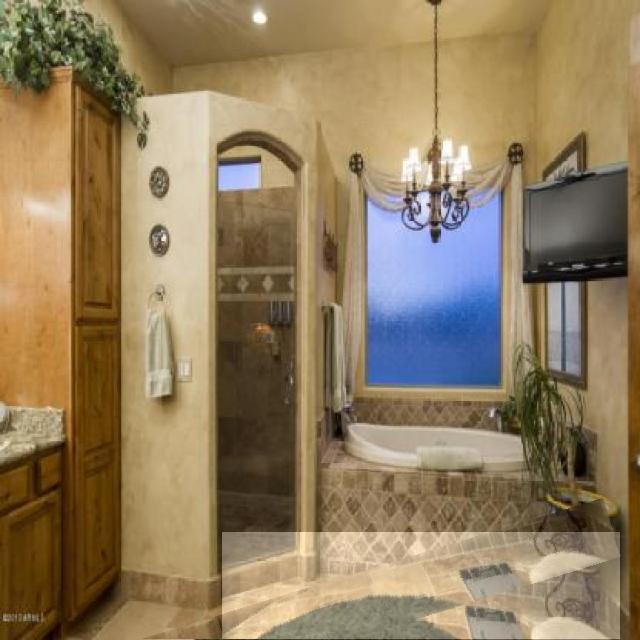floor: (223, 532, 620, 640)
